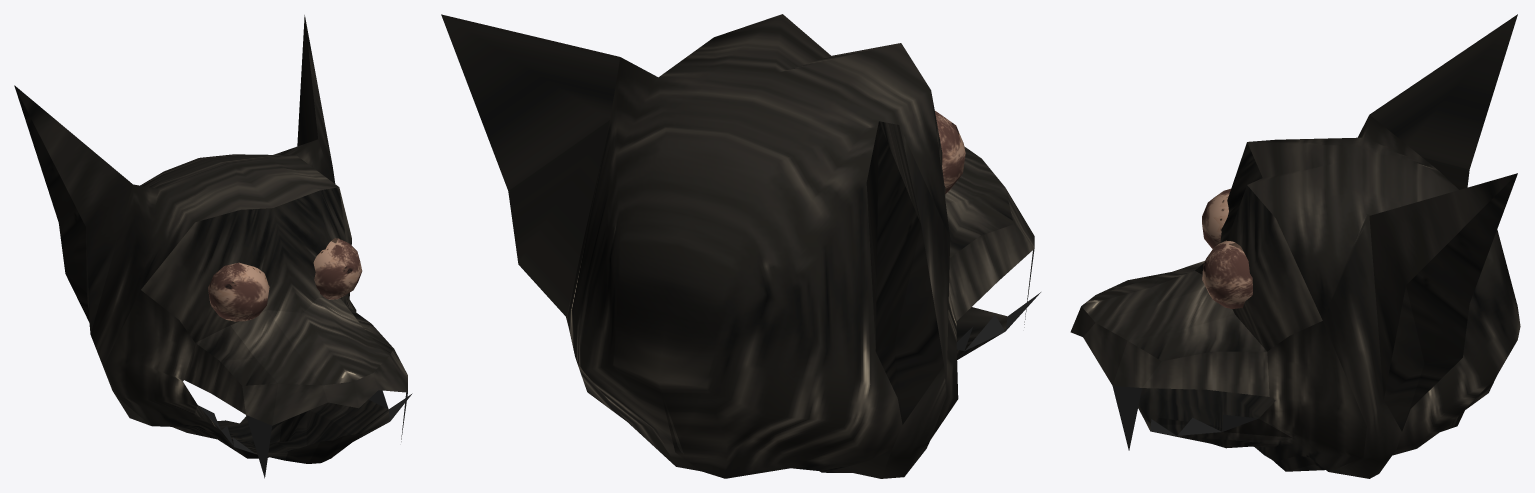
The model's file is wolf mask.FBX.
3 views of the same model, side by side, from view 1: azimuth 30°, elevation 25°; view 2: azimuth 150°, elevation 25°; view 3: azimuth 270°, elevation 25° (orthographic). The views are drawn at different scales.
Visible parts, largest first — view 1: WolfMask; view 2: WolfMask; view 3: WolfMask.
Boxes of the visible parts, x1=… form: WolfMask: x1=14, y1=15, x2=412, y2=478; WolfMask: x1=441, y1=14, x2=1040, y2=478; WolfMask: x1=1070, y1=14, x2=1520, y2=478.
Bounding box in the file's own units: 6152 × 6704 × 7356.
